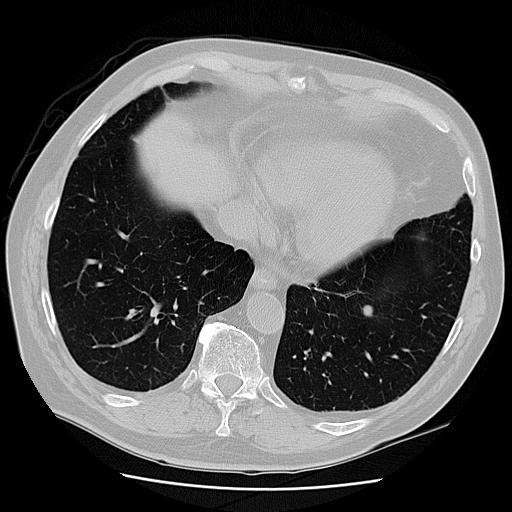nodule: (360, 303, 377, 320)
